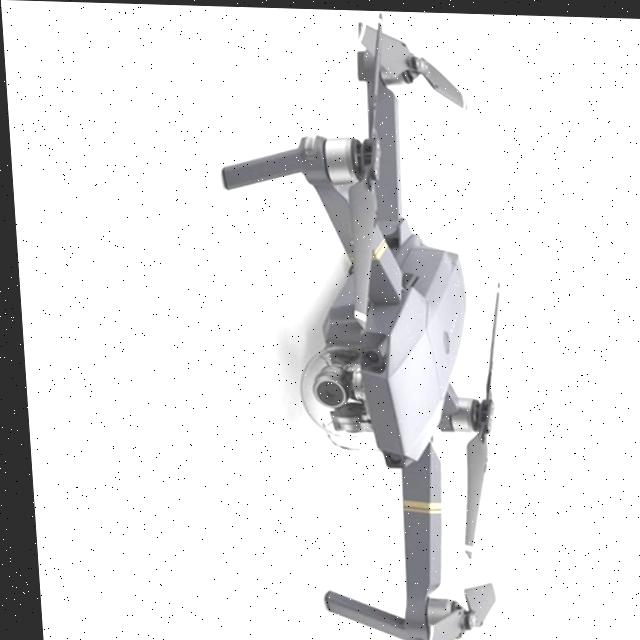drone: (183, 4, 531, 640)
